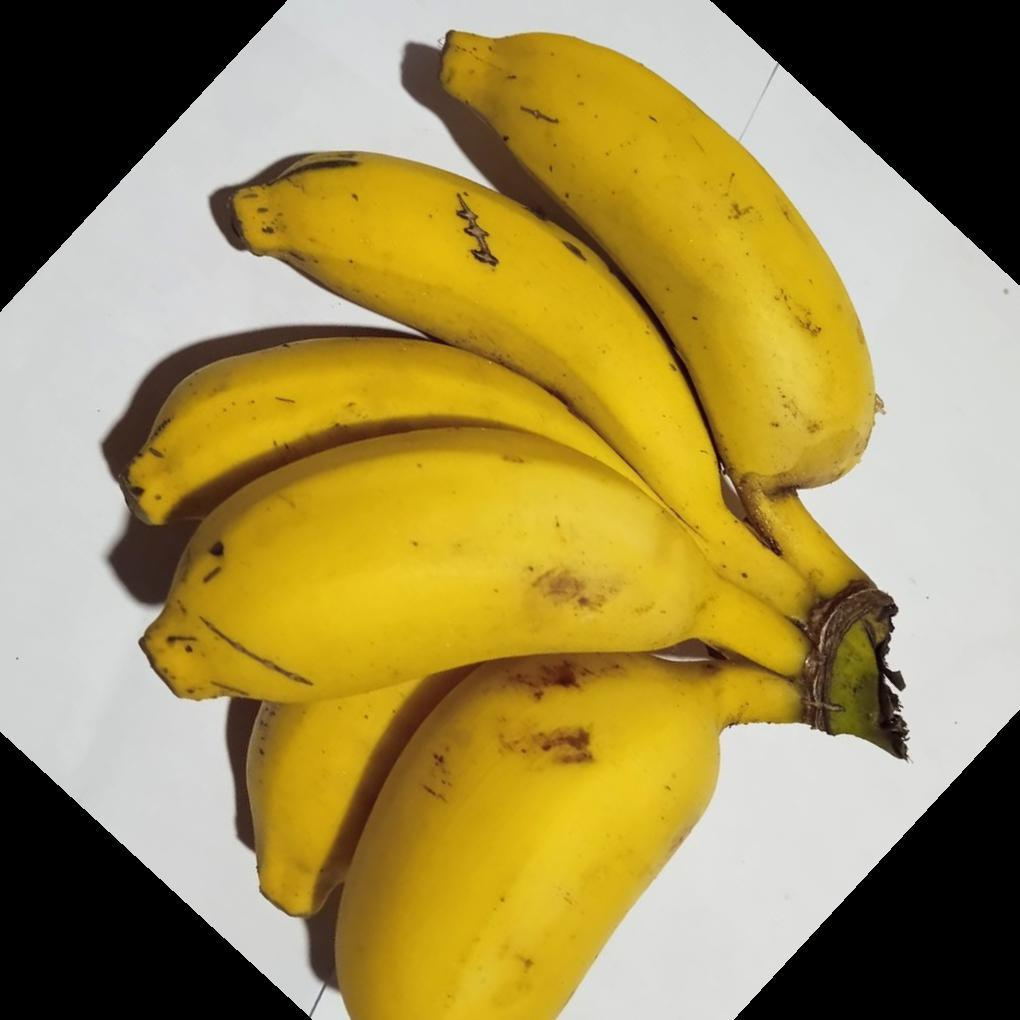Banana Ripe: (193, 124, 886, 1020), (418, 4, 1020, 1020), (119, 323, 763, 1020)
